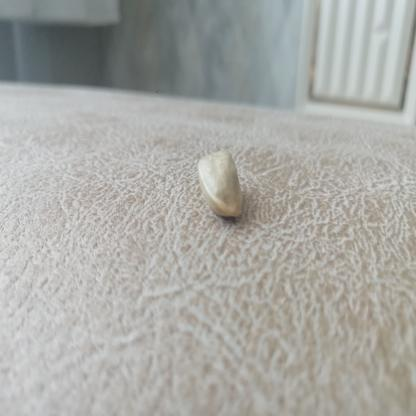pistachio: (194, 153, 253, 224)
